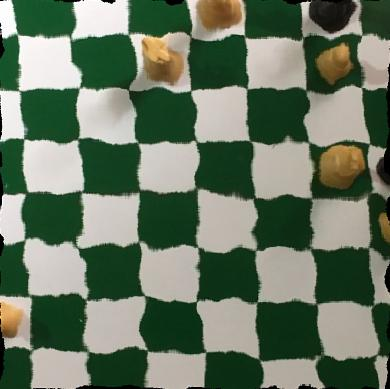black-king: (307, 0, 366, 30)
black-pawn: (374, 150, 390, 190)
white-king: (306, 144, 370, 194)
white-pawn: (311, 42, 358, 84), (0, 300, 28, 343), (372, 205, 390, 245)
white-queen: (192, 0, 243, 34)
white-rook: (133, 29, 187, 89)
